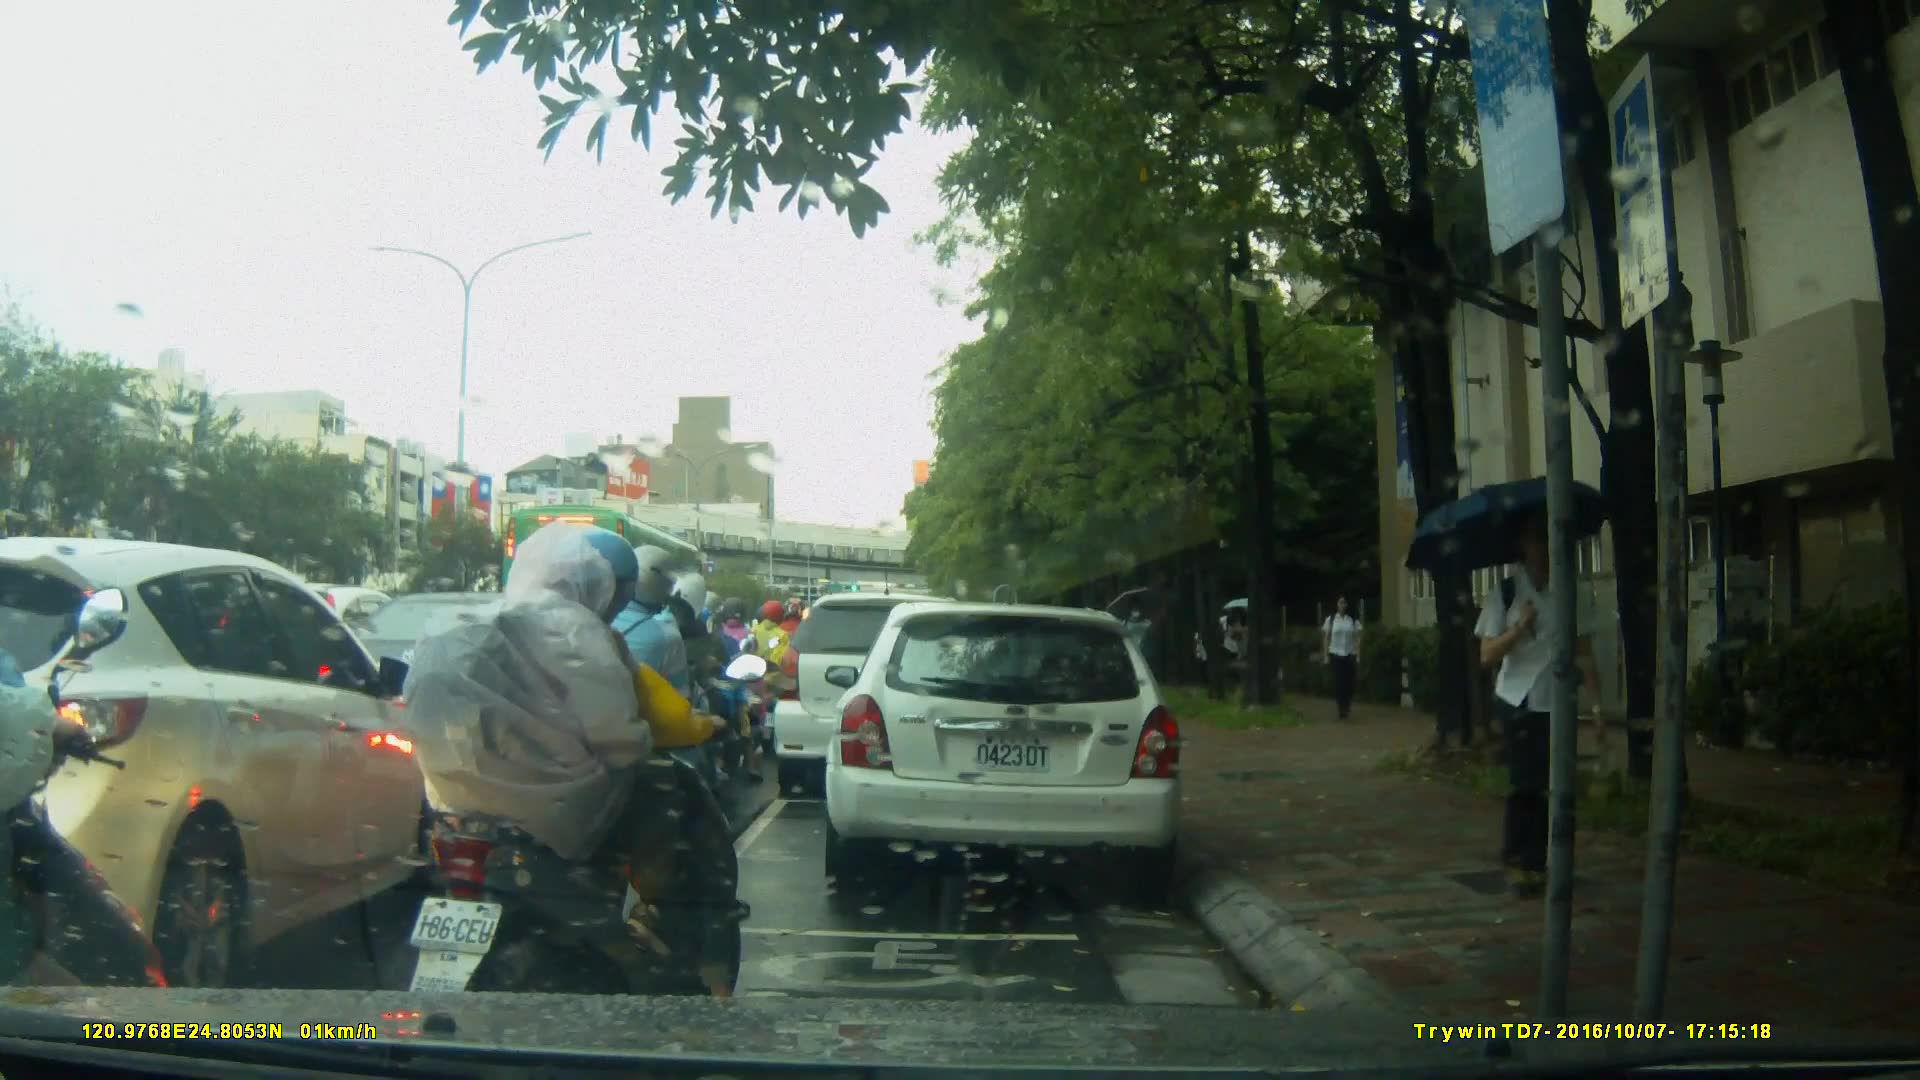pedestrian: (1474, 530, 1629, 890), (1315, 591, 1368, 722), (1119, 595, 1152, 698)
rider: (393, 514, 753, 1073), (1, 585, 177, 1080), (541, 546, 732, 887), (608, 569, 744, 864), (704, 601, 780, 766), (747, 603, 803, 744)
vehicle: (1, 536, 442, 989), (822, 604, 1186, 880), (774, 595, 995, 802), (504, 502, 725, 669)
